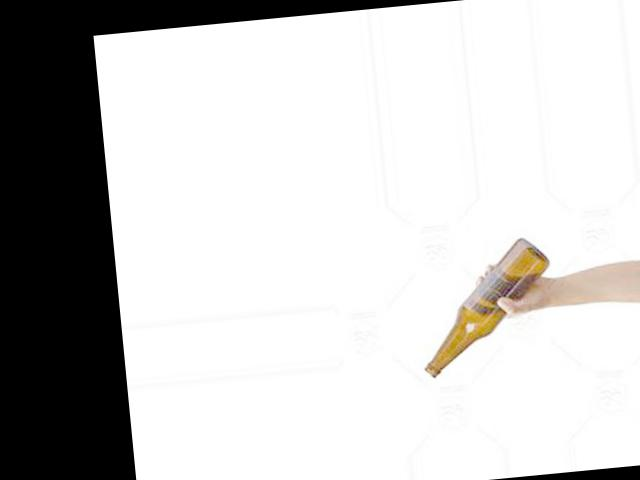beer: (413, 234, 559, 377)
